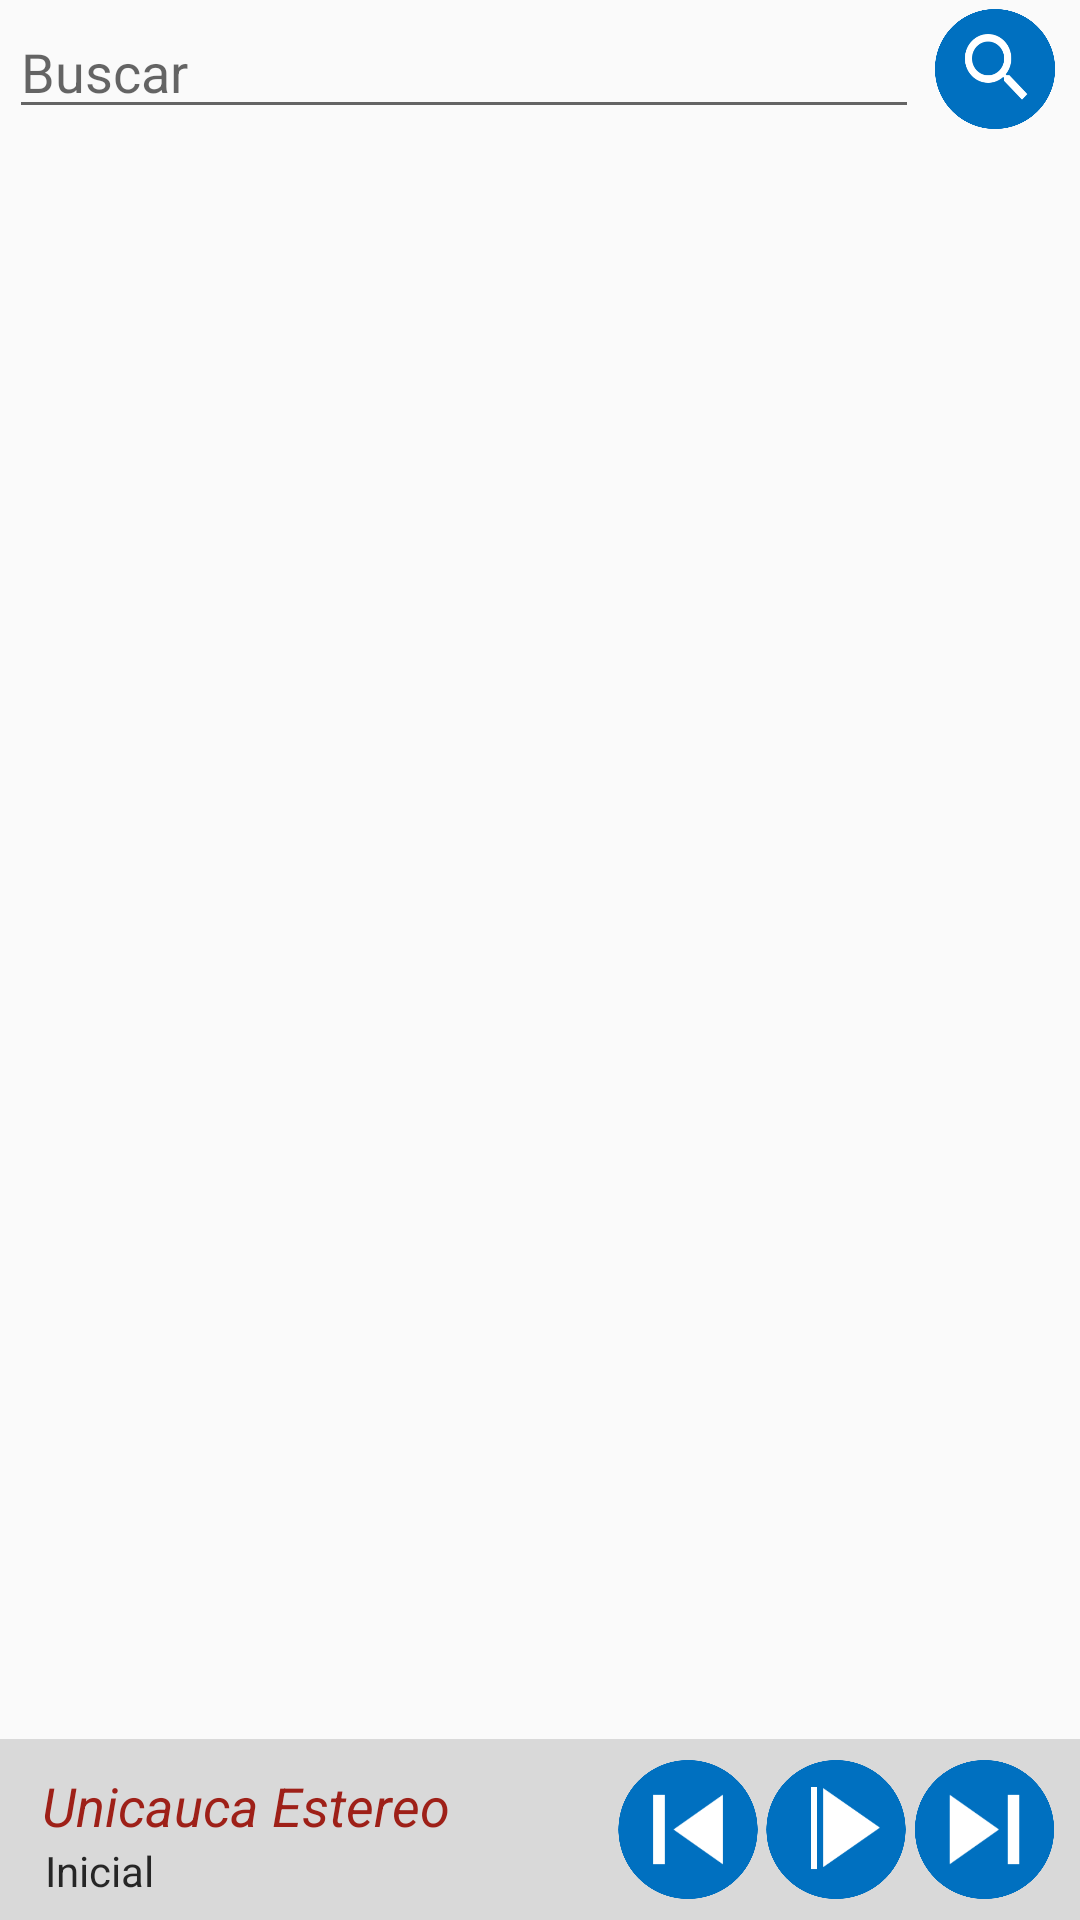

Icon bounding boxes for this 1080*1920 phone screenshot, format [x1=x1, y1=y1, x2=x2, y2=y2]:
atras: [x1=618, y1=1760, x2=758, y2=1899]
playpause: [x1=766, y1=1760, x2=906, y2=1899]
search: [x1=935, y1=9, x2=1055, y2=129]
